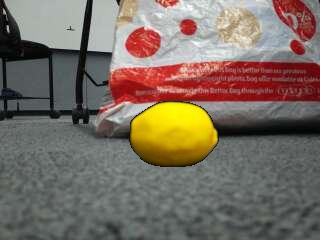lemon: (130, 102, 217, 165)
